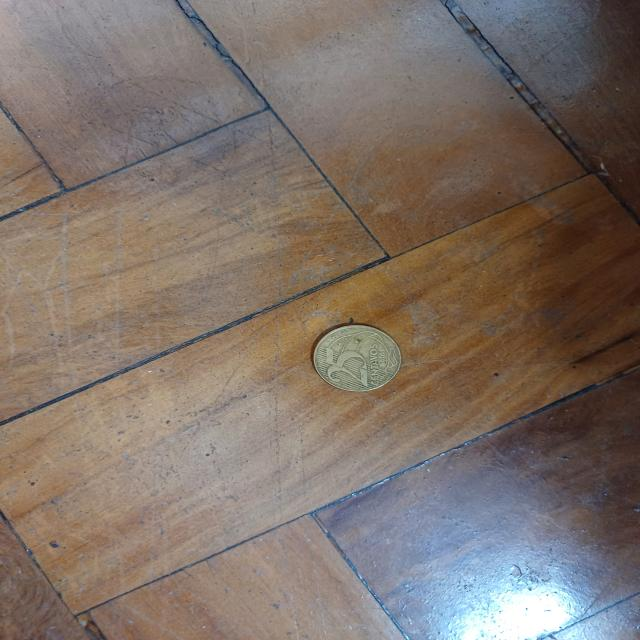25 cents: (308, 320, 407, 394)
